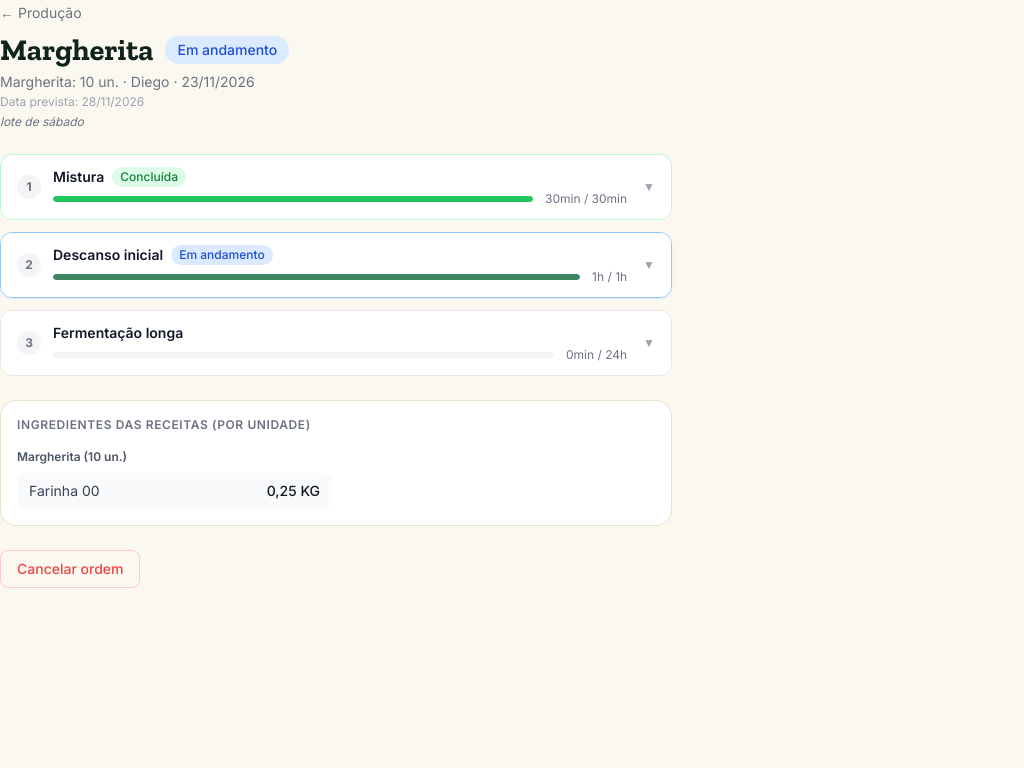
detalhe da ordem de produção › cancelar pede confirmação e avisa o resultado
Expected: the text "Mistura" is shown, [53, 167, 104, 187]
Step 1. Click the button "Cancelar ordem" → (70, 569), box [0, 550, 140, 588]
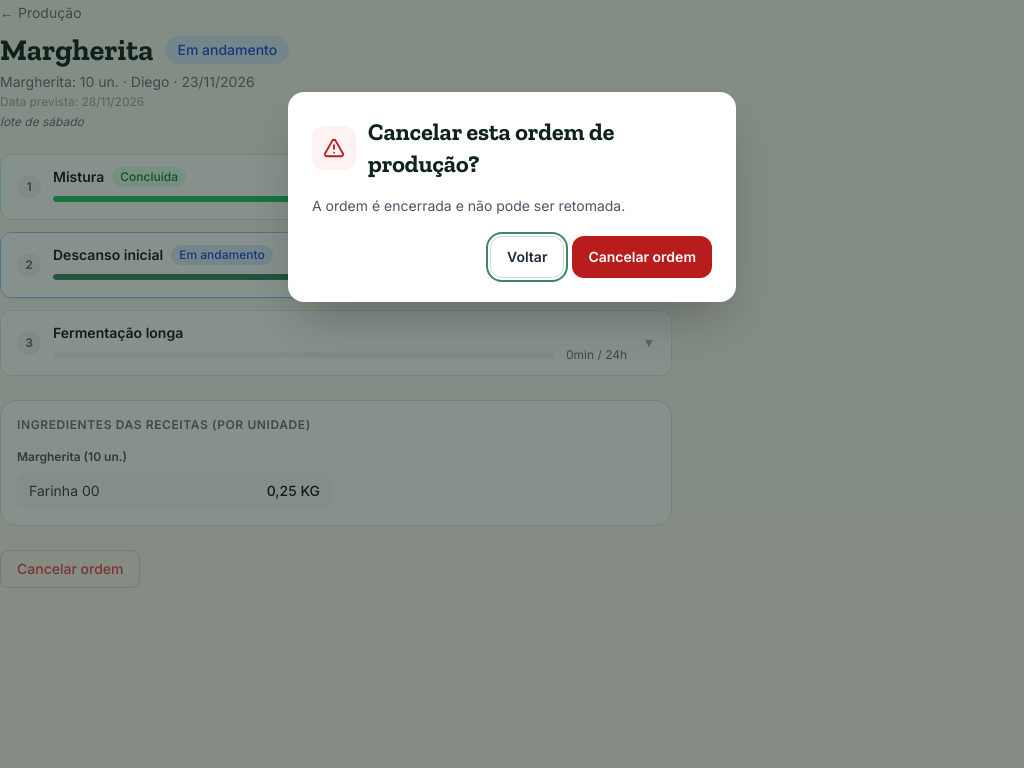
Result: the text "A ordem é encerrada e não pode ser retomada." is shown at [312, 197, 625, 214]
Step 2. Click the button "Cancelar ordem" → (642, 257), box [572, 236, 712, 278]
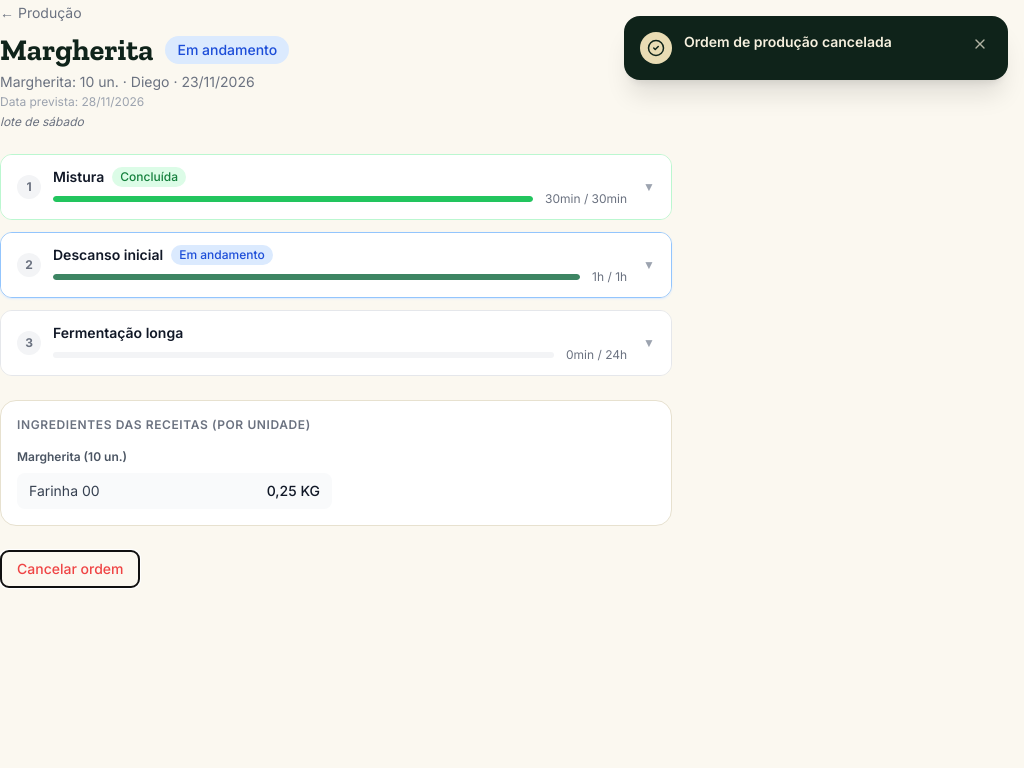
Result: the text "Ordem de produção cancelada" is shown at [684, 33, 892, 50]
